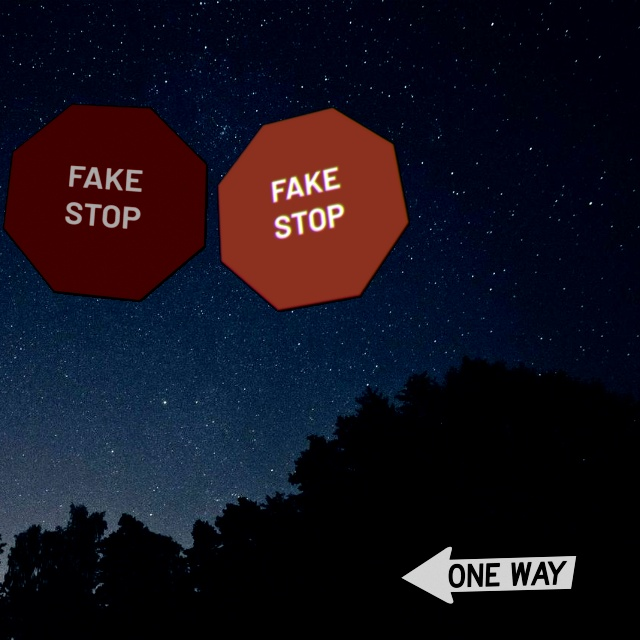FAKE_STOP: (2, 103, 208, 302), (216, 106, 410, 312)
ONE_WAY_ left: (386, 538, 592, 609)
